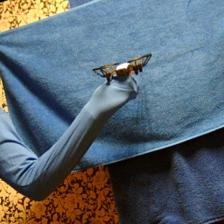drone: (92, 52, 152, 87)
